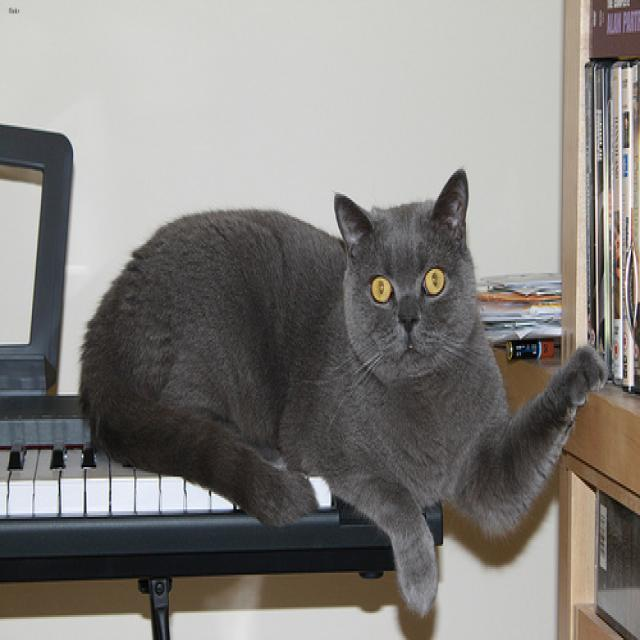British_Shorthair: (333, 165, 474, 375)
